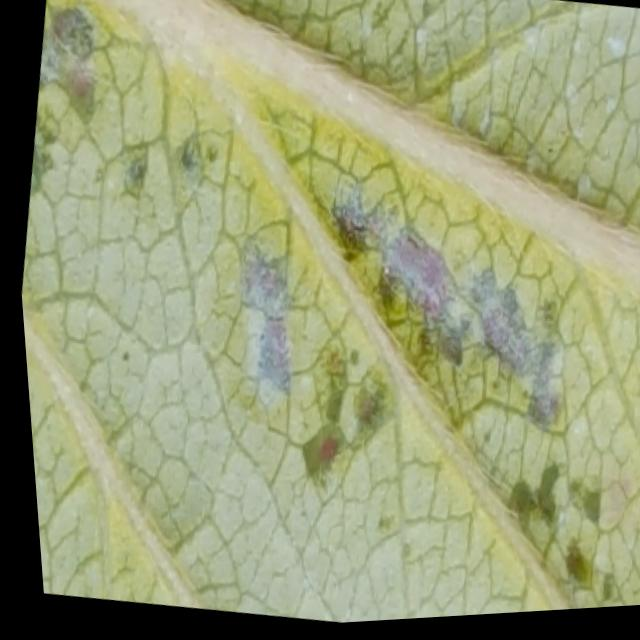Angular Leafspot: (17, 0, 640, 616)
